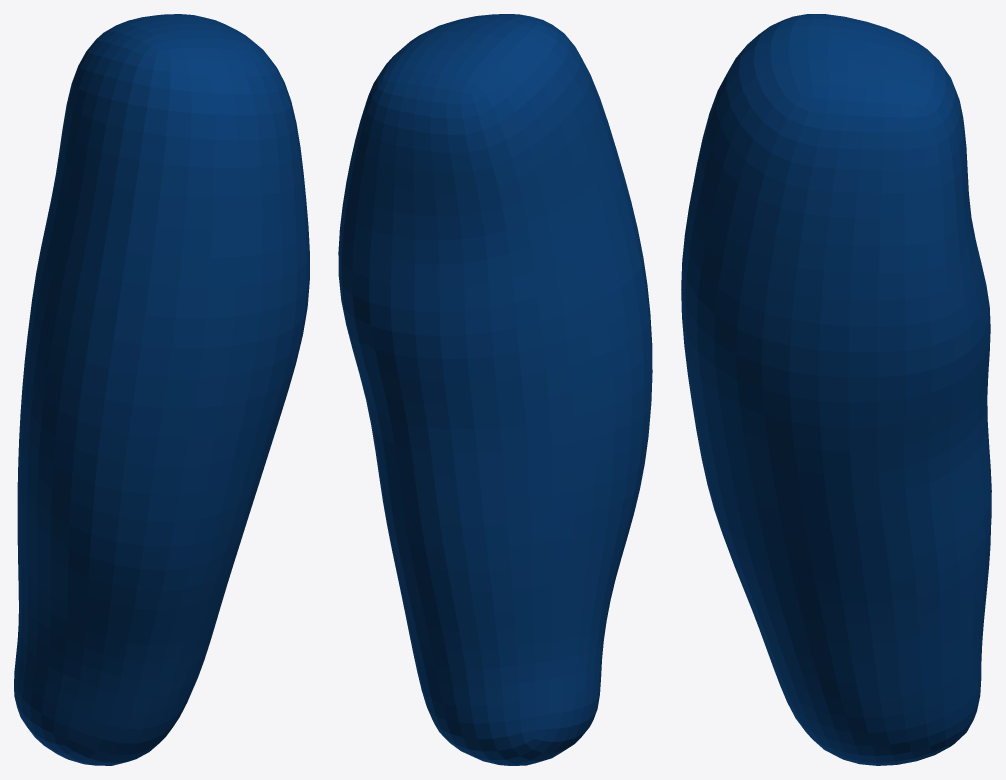
The model's file is RightThigh.fbx.
3 views of the same model, side by side, from view 1: azimuth 30°, elevation 25°; view 2: azimuth 150°, elevation 25°; view 3: azimuth 270°, elevation 25° (orthographic). The views are drawn at different scales.
Parts seen in each view (by area): view 1: RightThigh; view 2: RightThigh; view 3: RightThigh.
Boxes of the visible parts, bbox=[...] form: RightThigh: bbox=[14, 14, 309, 765]; RightThigh: bbox=[338, 14, 652, 765]; RightThigh: bbox=[681, 14, 991, 765].
Size of the model in its own units: 0.1909 by 0.5048 by 0.1887.
